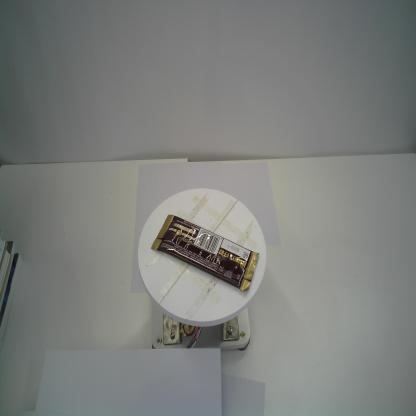Chocolate: (149, 213, 260, 294)
